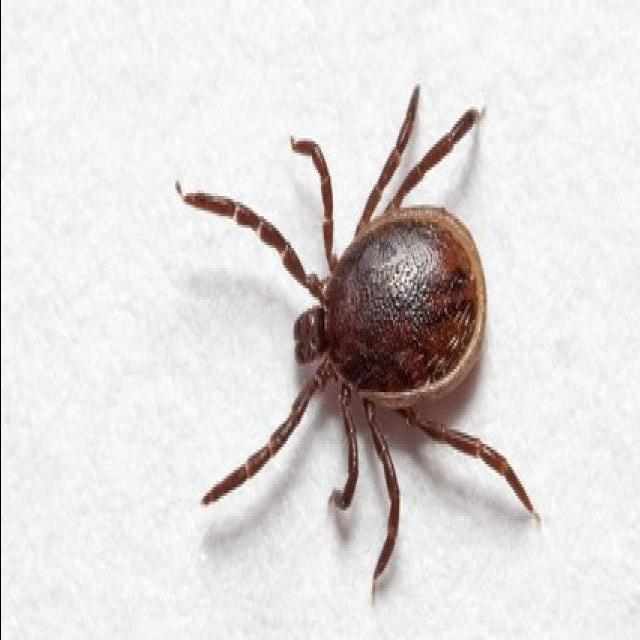Ixodes Ricinus-M: (176, 86, 536, 603)
